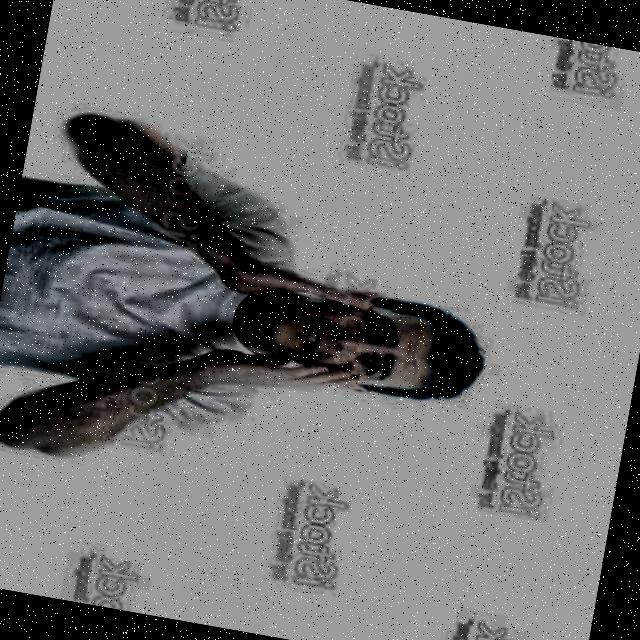fear: (202, 252, 512, 438)
